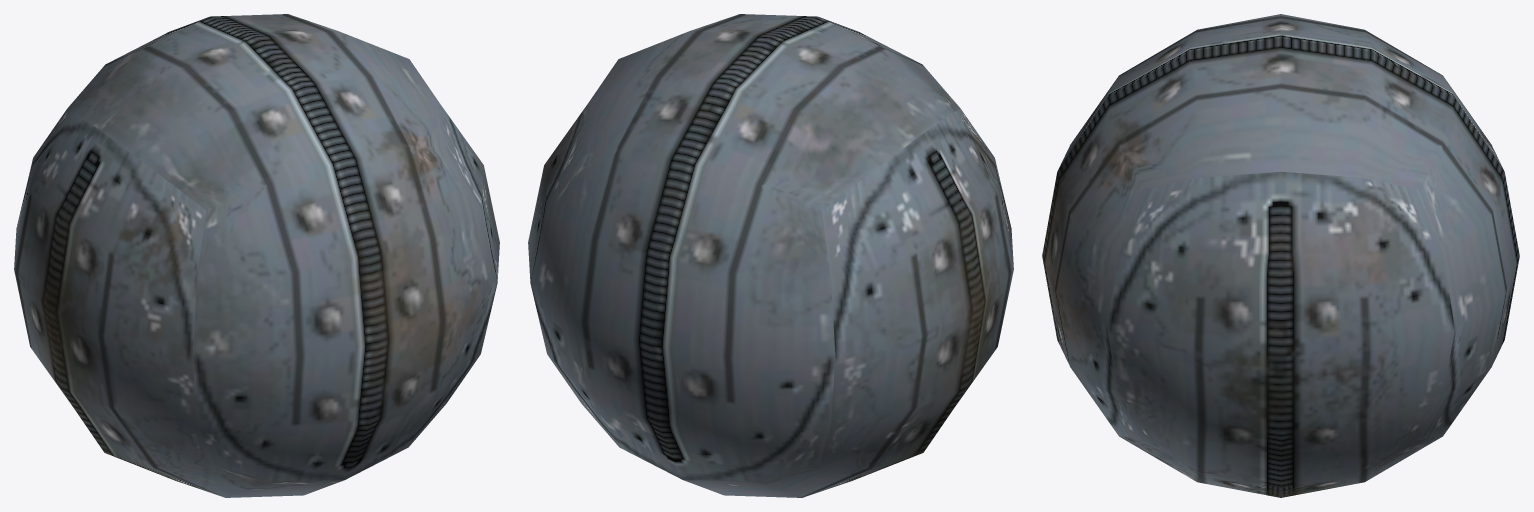
File: msc_toy_ball_m_l0.fbx
3 views of the same model, side by side, from view 1: azimuth 30°, elevation 25°; view 2: azimuth 150°, elevation 25°; view 3: azimuth 270°, elevation 25° (orthographic).
Parts seen in each view (by area): view 1: mesh_node; view 2: mesh_node; view 3: mesh_node.
Part boxes in pixels (x1=…): mesh_node: x1=14, y1=14, x2=499, y2=497; mesh_node: x1=528, y1=14, x2=1013, y2=497; mesh_node: x1=1042, y1=14, x2=1519, y2=497.
Bounding box in the file's own units: 0.2646 × 0.2646 × 0.2646.
